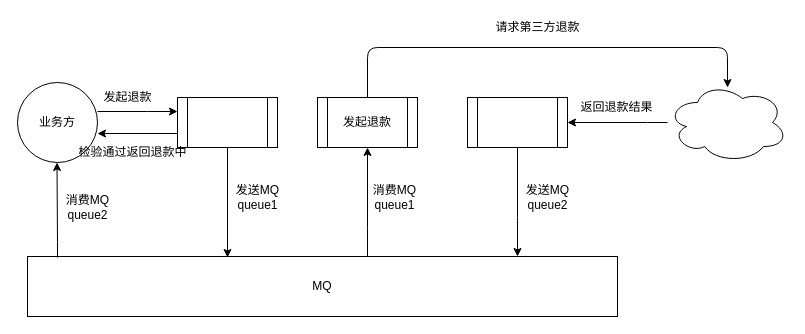
The diagram is 805 pixels wide and 334 high, and some of its shapes have lost their labels. Each missing label, with the box of its shape:
处理退款结果: (466, 96, 568, 148)
退款检验: (176, 96, 278, 148)
